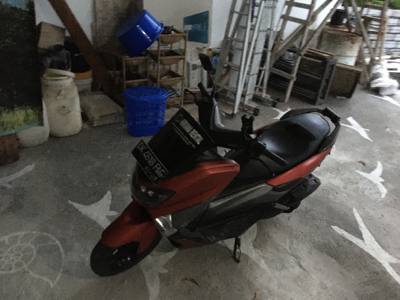moto: (89, 50, 347, 278)
